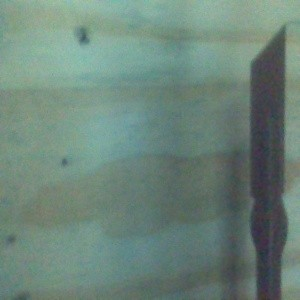cutter: (248, 21, 289, 300)
